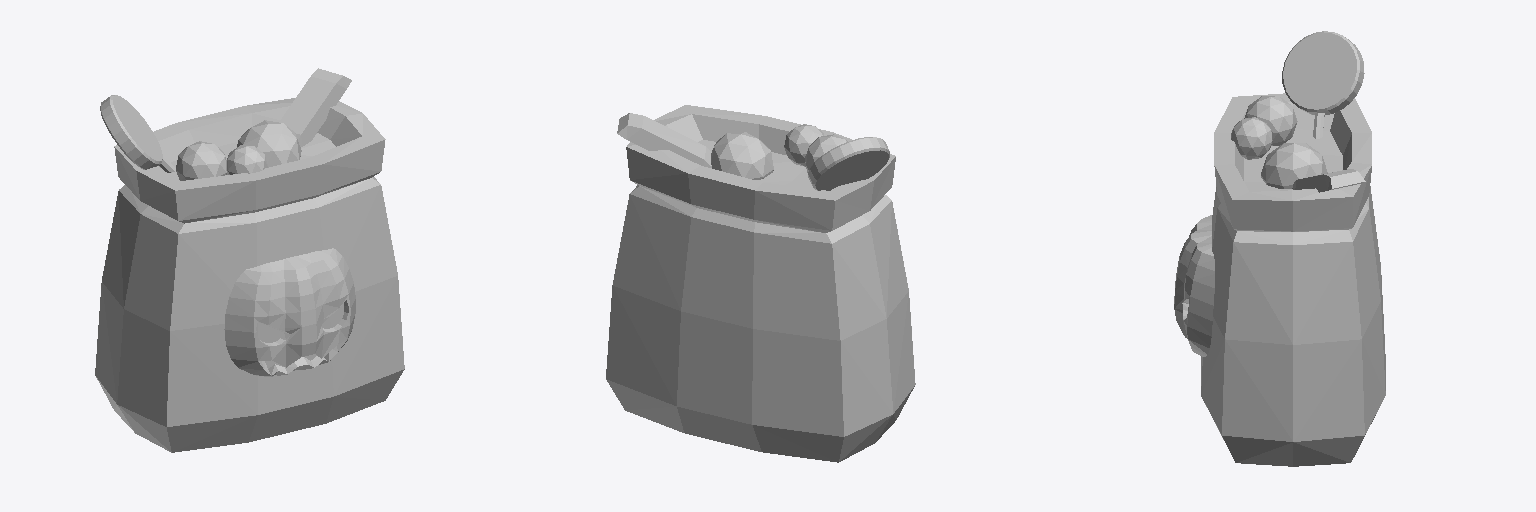
Rendered from CandyBag(y).obj.
The picture shows the model from 3 angles: view 1: azimuth 30°, elevation 25°; view 2: azimuth 150°, elevation 25°; view 3: azimuth 270°, elevation 25°; orthographic projection.
Visible parts, largest first — view 1: candyBag_Cube.003; view 2: candyBag_Cube.003; view 3: candyBag_Cube.003.
Boxes of the visible parts, x1,y1,x2,y2 form: candyBag_Cube.003: [95, 68, 404, 452]; candyBag_Cube.003: [606, 105, 915, 462]; candyBag_Cube.003: [1174, 31, 1385, 466].
Bounding box in the file's own units: 5.76 × 6.84 × 3.96.